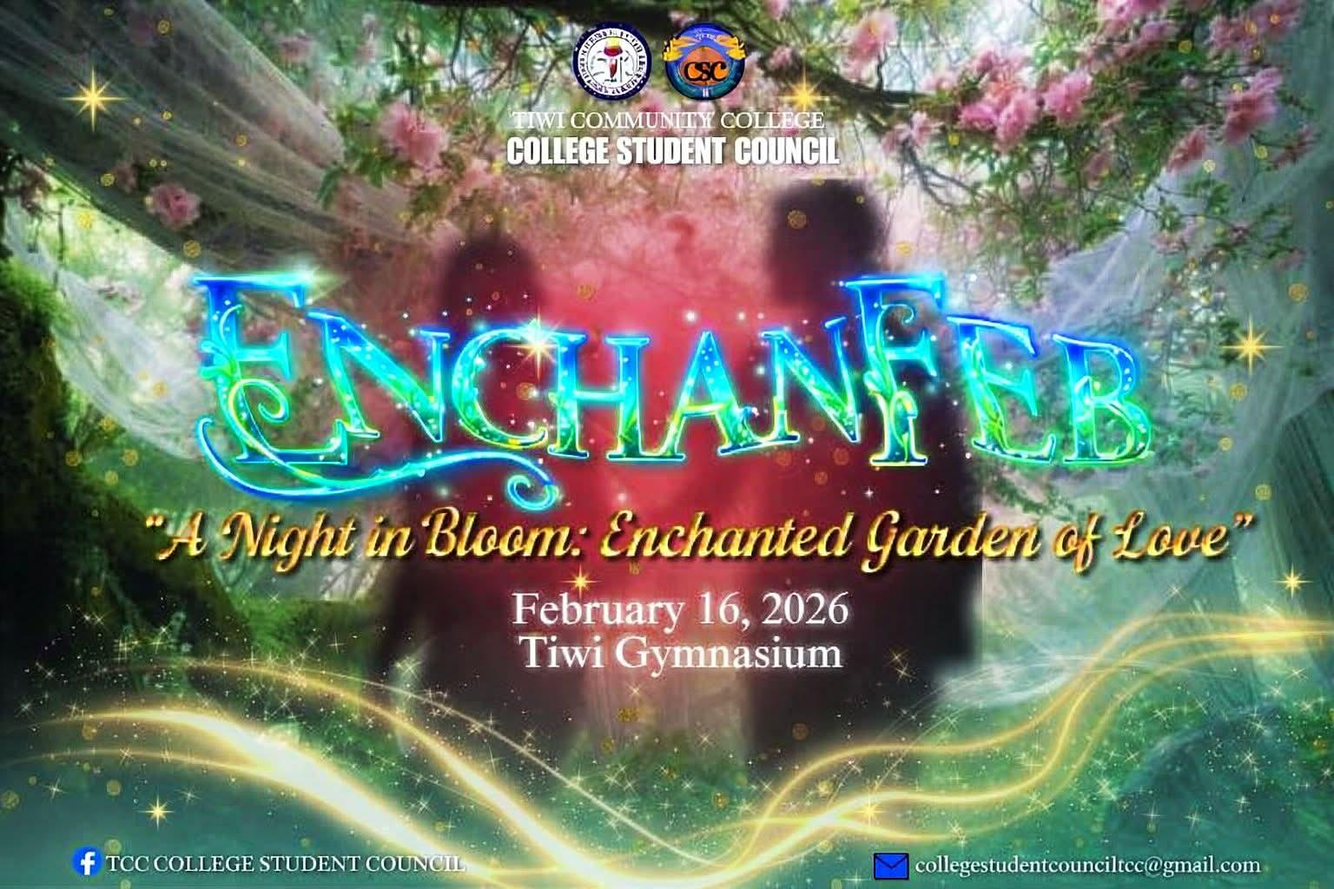embellishment: (0, 594, 1333, 888), (871, 846, 914, 888), (67, 842, 102, 879)
logo: (658, 14, 751, 103), (566, 18, 656, 104)
text: (177, 264, 1168, 502), (135, 501, 1269, 577), (498, 577, 863, 686), (501, 103, 849, 173), (913, 850, 1275, 879), (104, 850, 467, 877)
